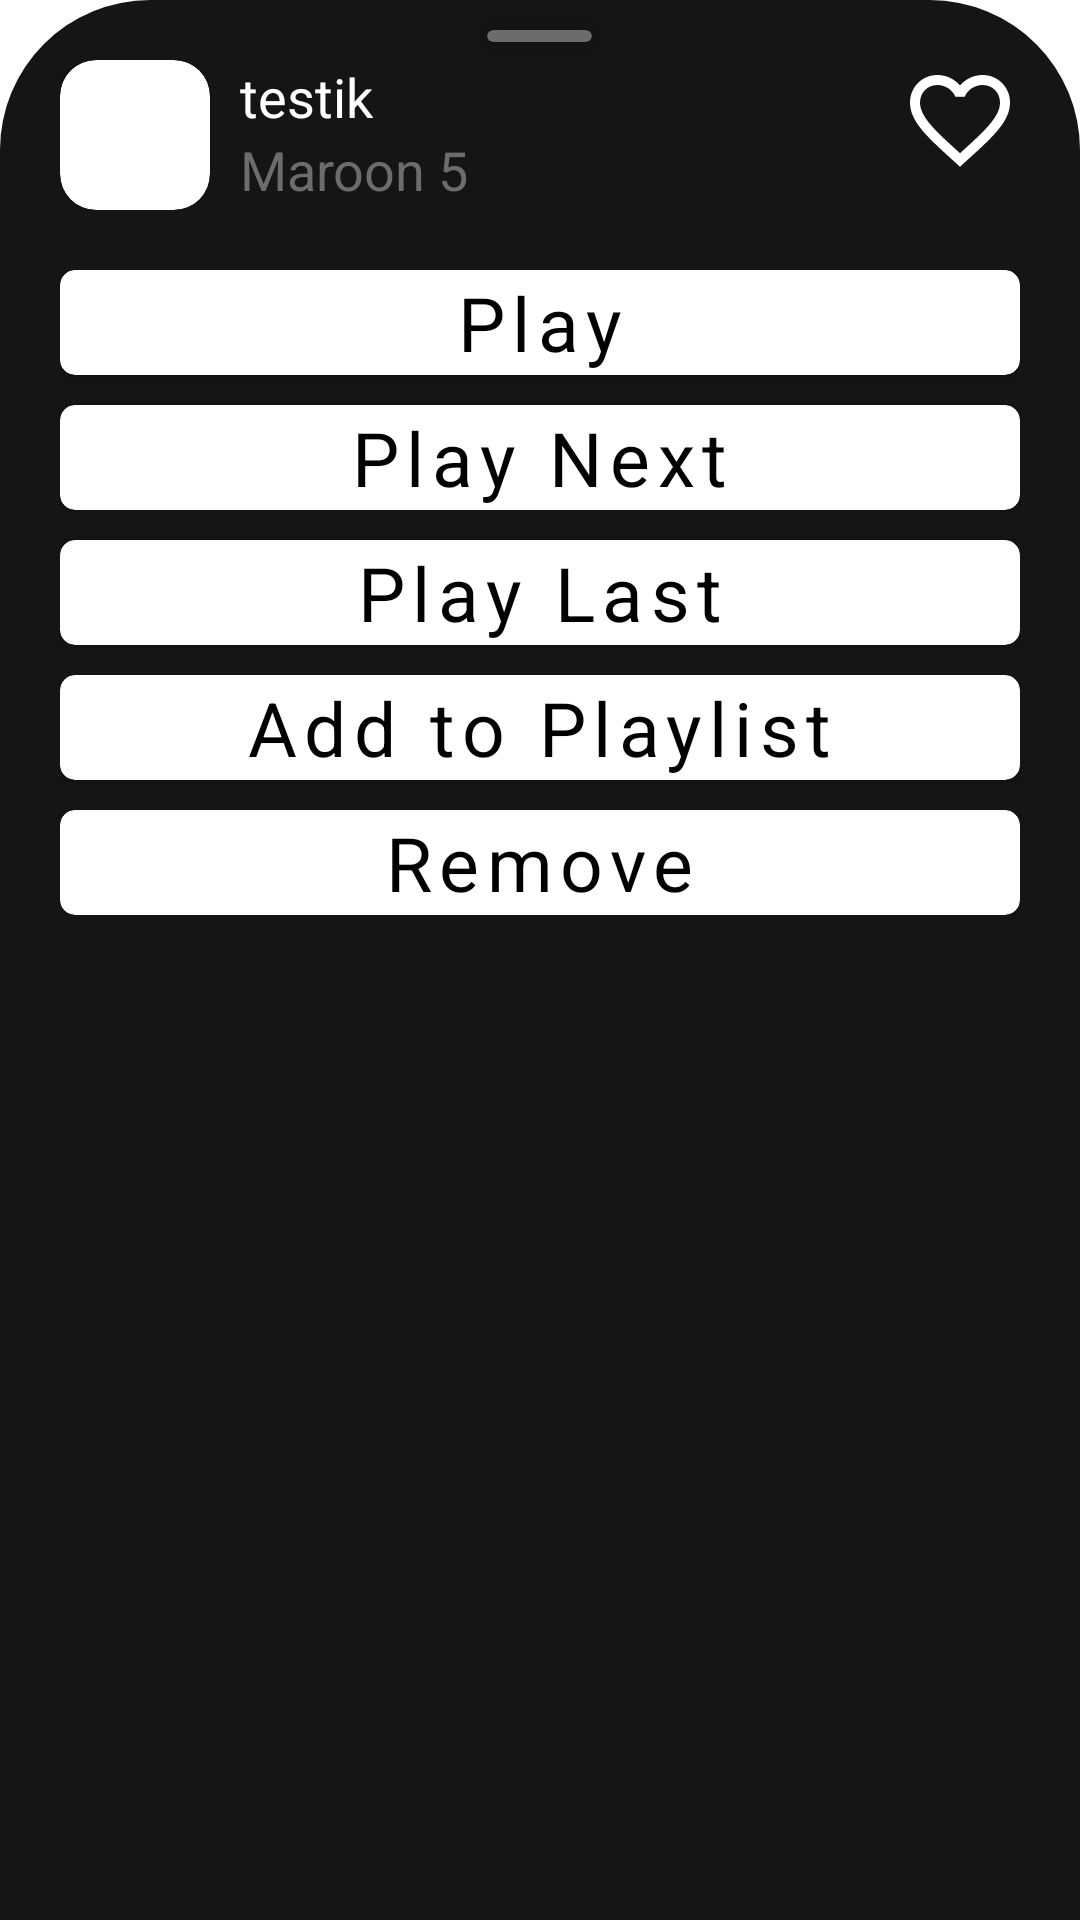

Named icons in this screenshot (1080px×1920px) and their bounding boxes, (left=x1, top=y1, right=x2, bottom=y2):
heart unfilled: (left=910, top=75, right=1010, bottom=167)
